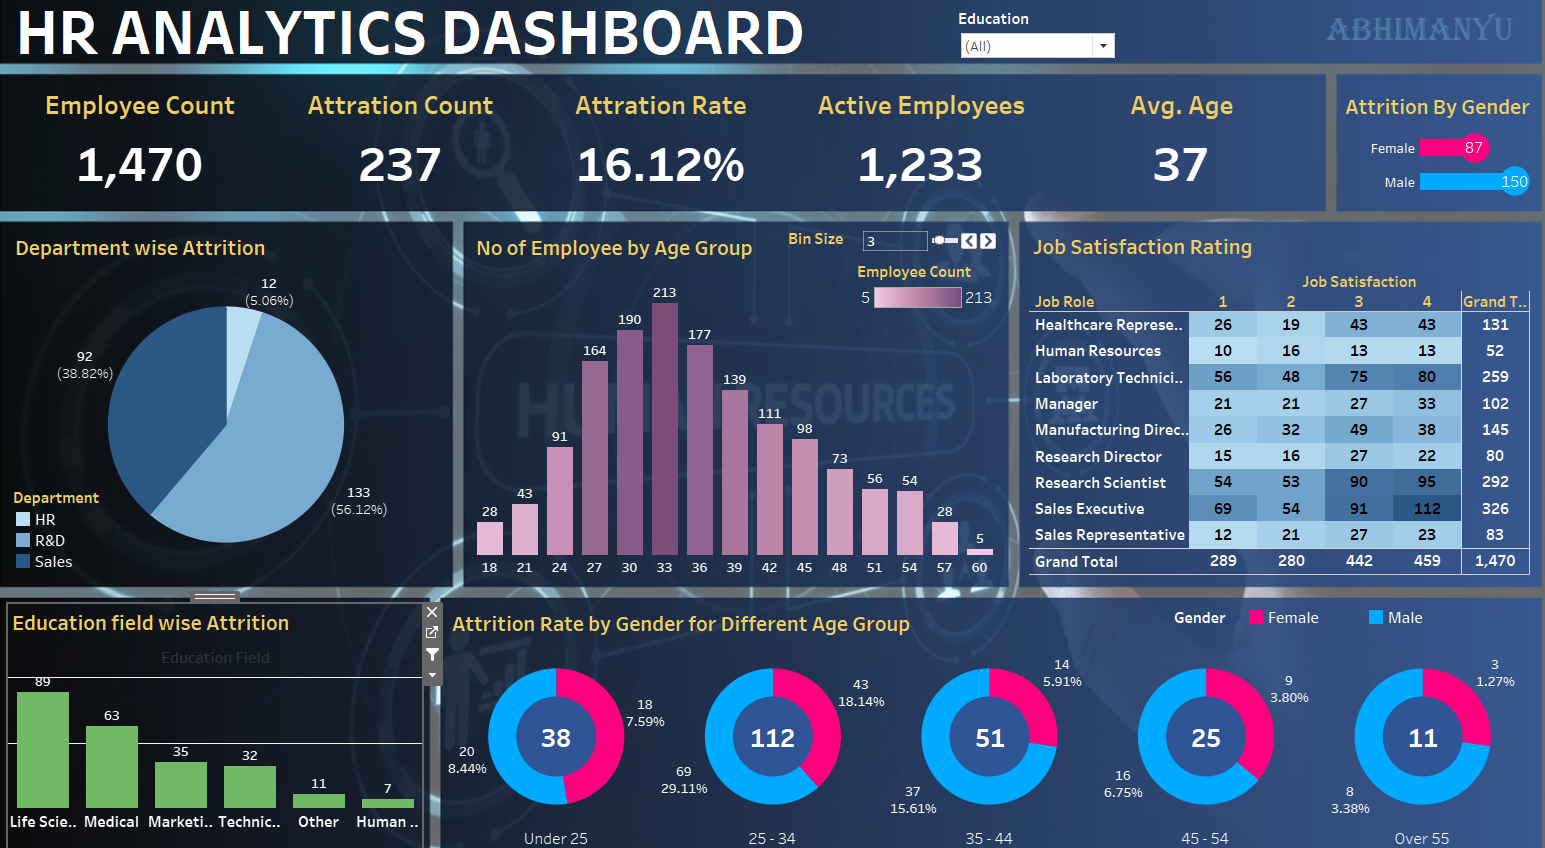

This screenshot's page, from the dashboard's own definition file:
{"tool":"tableau","page":{"name":"HR ANALYTICS DASHBOARD","canvas":[1580,900],"ordinal":0},"visuals":[{"type":"image","param":"D:/Downloads/HR background.png","box":[8,8,1564,884]},{"type":"text","box":[32,24,874,56]},{"type":"text","box":[1343,30,205,45]},{"type":"filter","title":"Department wise Attrition","param":"[federated.1juq7uj1gsy8wu110o3vb1ofw7ms].[none:Education:nk]","box":[978,31,160,166]},{"type":"worksheet","title":"KPI","mark":"Automatic","box":[30,104,1302,123]},{"type":"worksheet","title":"Attrition By Gender","mark":"Automatic","rows":["Gender"],"cols":["Calculation_546624411573907456","Calculation_546624411573907456"],"box":[1360,111,195,110]},{"type":"parameter","param":"[Parameters].[Parameter 1]","box":[808,251,211,37]},{"type":"worksheet","title":"Job Satisfaction Rating","mark":"Square","rows":["Job Role"],"cols":["Job Satisfaction"],"box":[1049,251,501,347]},{"type":"worksheet","title":"Department wise Attrition","mark":"Pie","box":[31,252,430,348]},{"type":"worksheet","title":"No of Employee by Age Group","mark":"Automatic","rows":["Employee Count"],"cols":["Age (bin)"],"box":[492,252,526,348]},{"type":"legend","title":"No of Employee by Age Group","param":"[federated.1juq7uj1gsy8wu110o3vb1ofw7ms].[sum:Employee Count:qk]","box":[877,284,140,88]},{"type":"legend","title":"Department wise Attrition","param":"[federated.1juq7uj1gsy8wu110o3vb1ofw7ms].[none:Department:nk]","box":[33,510,109,85]},{"type":"worksheet","title":"Education field wise Attrition","mark":"Automatic","rows":["Calculation_546624411573907456"],"cols":["Education Field"],"box":[28,627,414,244]},{"type":"worksheet","title":"Attrition Rate by Gender for Different Age Group ","mark":"Pie","rows":["Calculation_142144870544035845","Calculation_142144870544035845"],"cols":["CF_age band"],"box":[468,628,1083,245]},{"type":"legend","title":"Attrition Rate by Gender for Different Age Group ","param":"[federated.1juq7uj1gsy8wu110o3vb1ofw7ms].[none:Gender:nk]","box":[1194,630,359,30]}]}

Visuals, with their boxes on the page's 1580x900 design canvas (x1, y1, x2, y2). These are canvas units, not pixel positions in the 1545x848 screenshot, which may show the page scaled, cropped or inside an application window:
image: (8,8,1572,892)
text: (32,24,906,80)
text: (1343,30,1548,75)
"Department wise Attrition" filter: (978,31,1138,197)
"KPI" worksheet: (30,104,1332,227)
"Attrition By Gender" worksheet: (1360,111,1555,221)
parameter: (808,251,1019,288)
"Job Satisfaction Rating" worksheet (Square marks): (1049,251,1550,598)
"Department wise Attrition" worksheet (Pie marks): (31,252,461,600)
"No of Employee by Age Group" worksheet: (492,252,1018,600)
"No of Employee by Age Group" legend: (877,284,1017,372)
"Department wise Attrition" legend: (33,510,142,595)
"Education field wise Attrition" worksheet: (28,627,442,871)
"Attrition Rate by Gender for Different Age Group " worksheet (Pie marks): (468,628,1551,873)
"Attrition Rate by Gender for Different Age Group " legend: (1194,630,1553,660)
